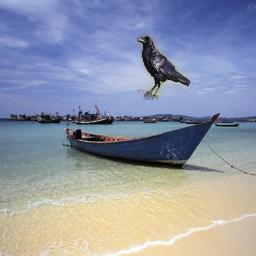Crow: (138, 36, 191, 101)
